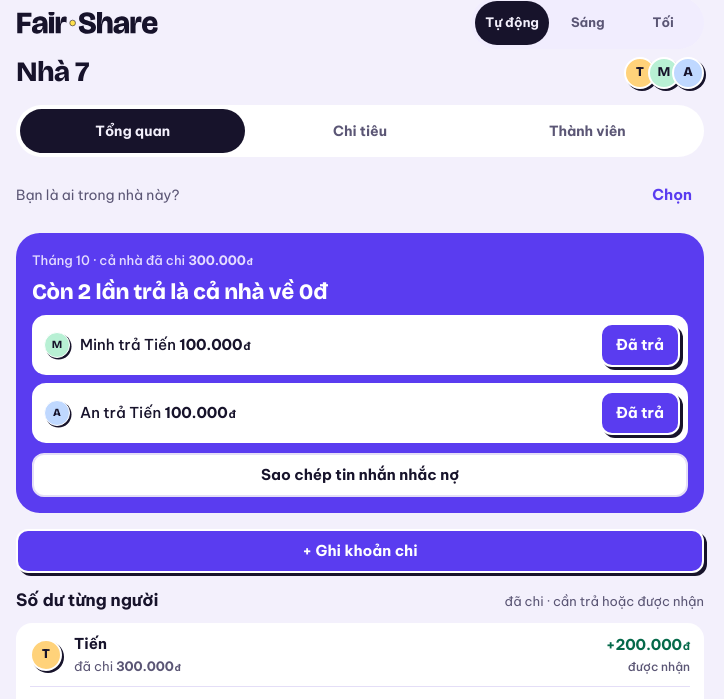
Scenario: "Đã trả" records the suggested transfer, paid today
This screenshot has width=724, height=699.
Click the button "Đã trả" in the row of "Minh trả Tiến" at coordinates (640, 345), box top-left (600, 323), bottom-right (680, 367)
(page scrolled)
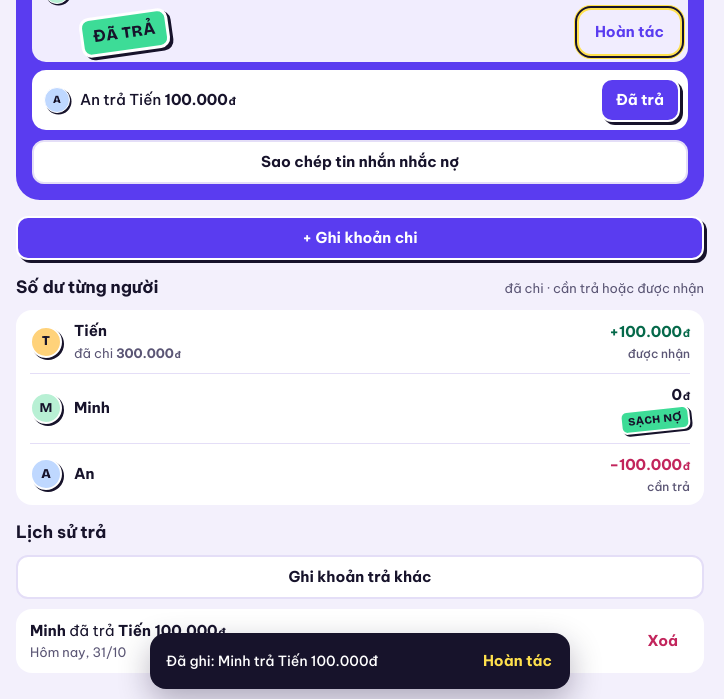
Result: the number of buttons "Đã trả" is 1 at top-left (600, 78), bottom-right (680, 122)
Result: the button with aria-label "Xoá khoản Minh trả Tiến" is shown at top-left (635, 619), bottom-right (690, 663)
